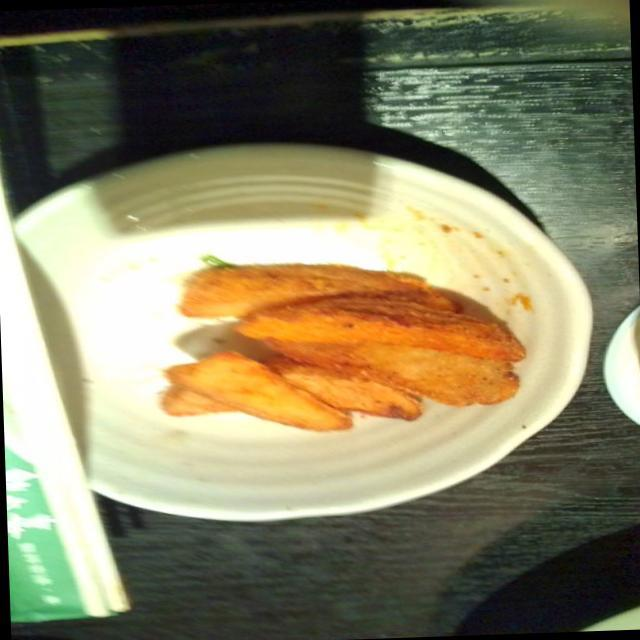French Fries: (145, 247, 532, 442)
